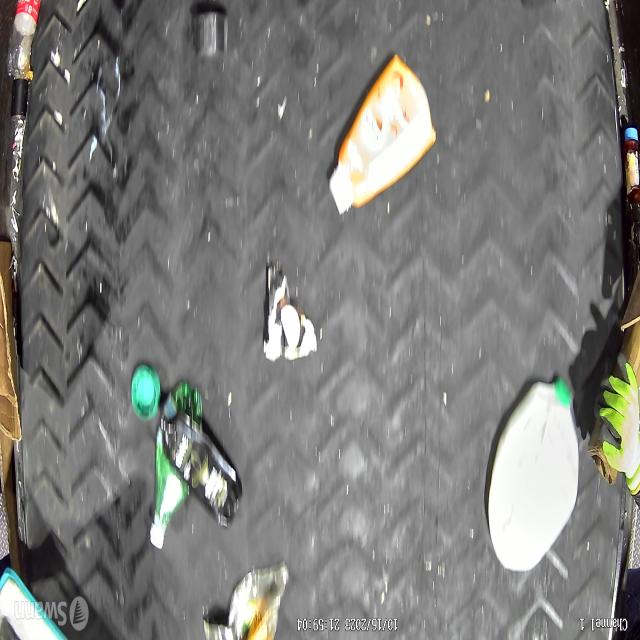milk_jug: (487, 375, 580, 574)
non_white_jug: (327, 51, 439, 217)
plastic_bottle: (6, 0, 44, 84)
